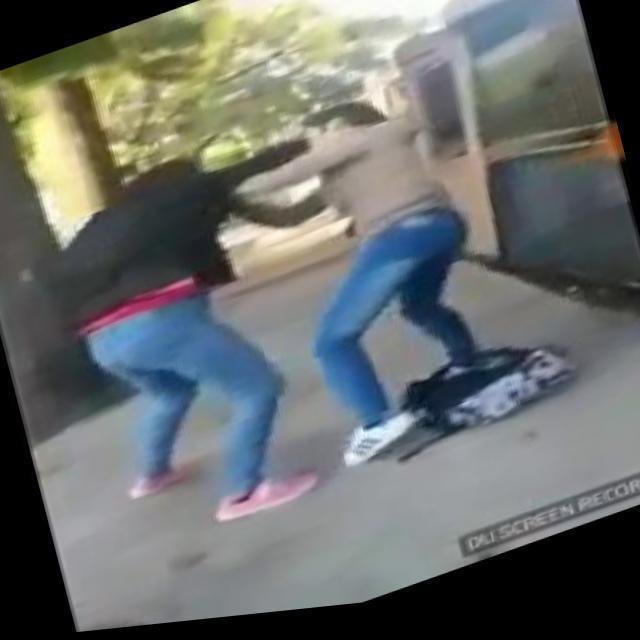fight: (42, 62, 524, 566)
